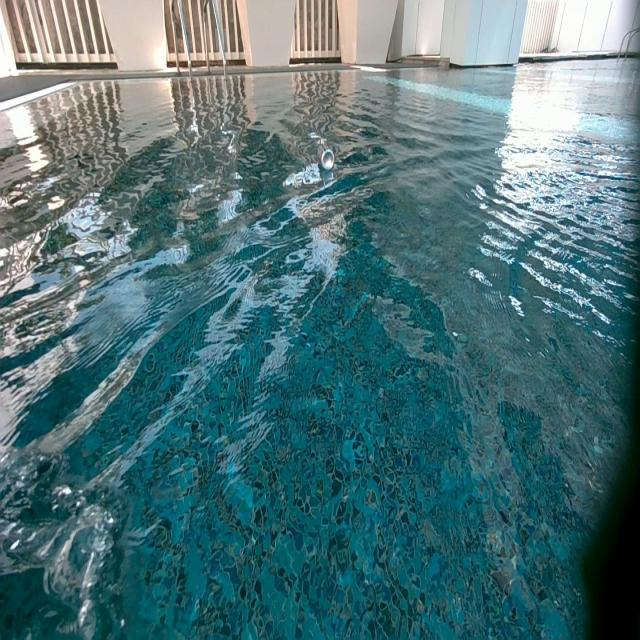Cans: (319, 148, 335, 172)
